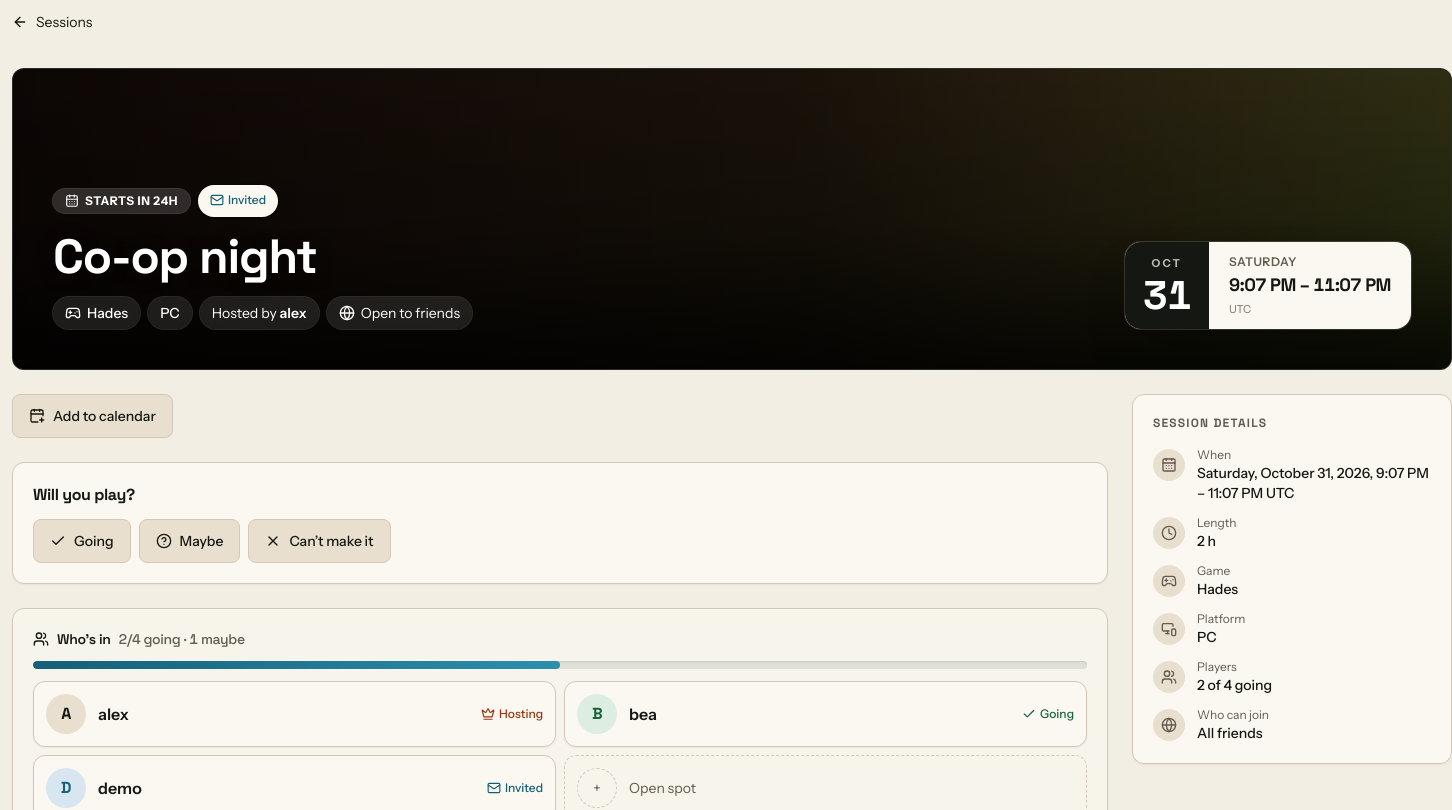
Test: Session detail › RSVPs optimistically: your answer and the counts change before the server replies
Click the button "Going".
click(82, 541)  # box [33,519,130,563]
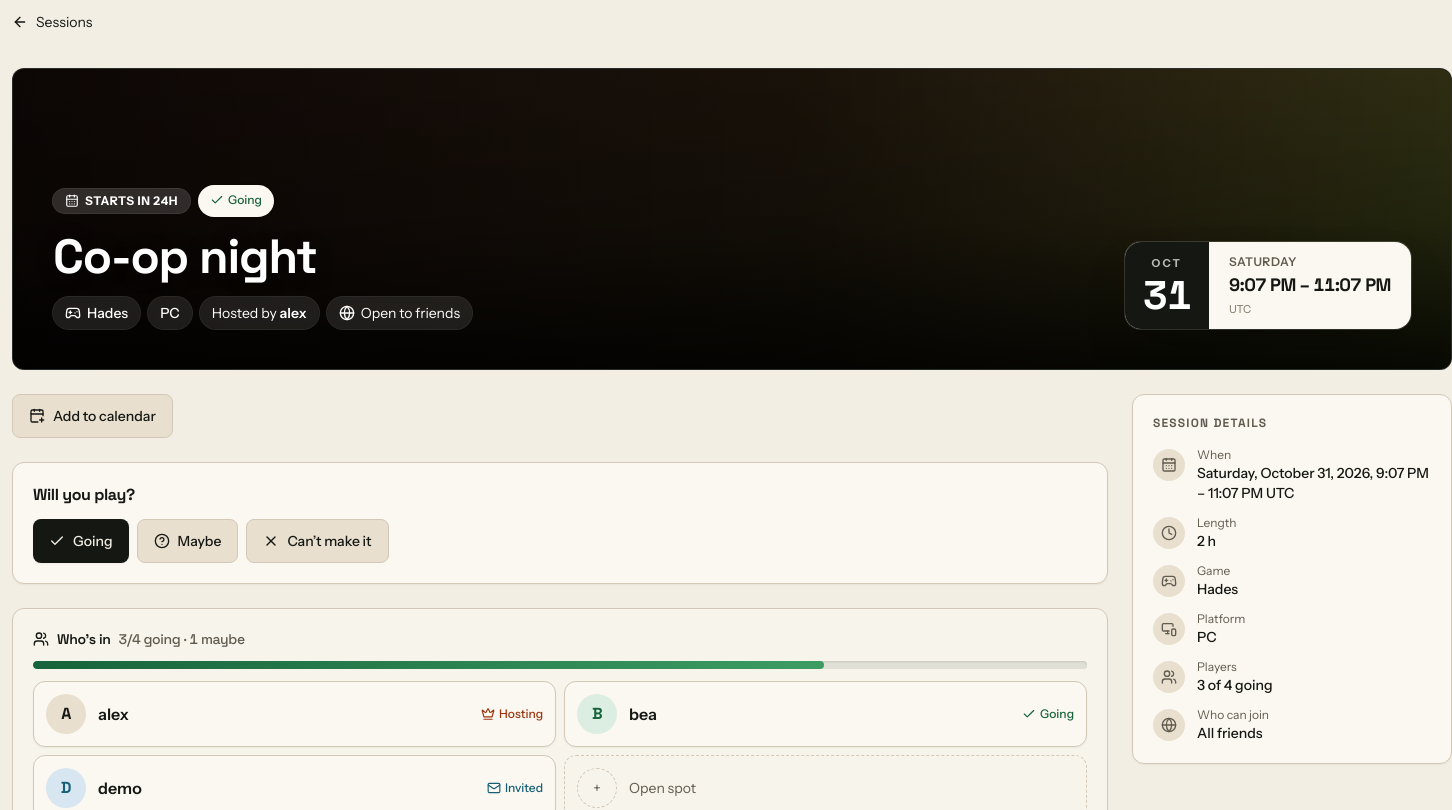
Expected: the text "3/4 going · 1 maybe" is shown, [119,629,245,649]
